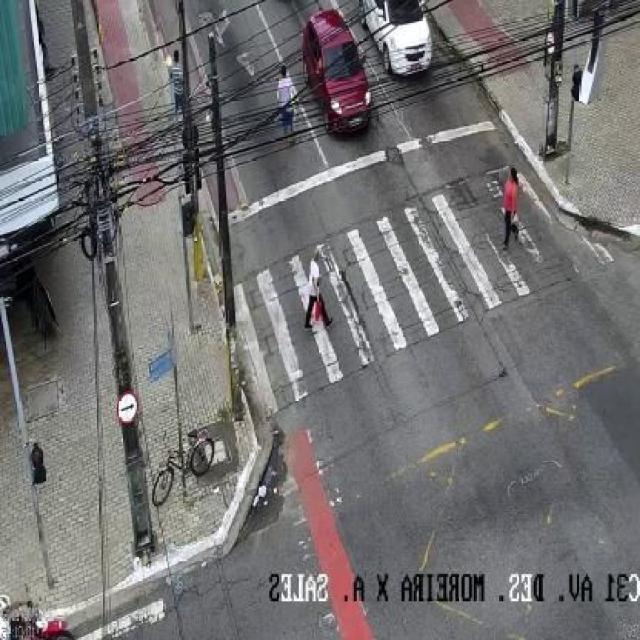Car: (299, 11, 376, 143), (356, 0, 432, 70)
Cycle: (0, 578, 76, 640)
